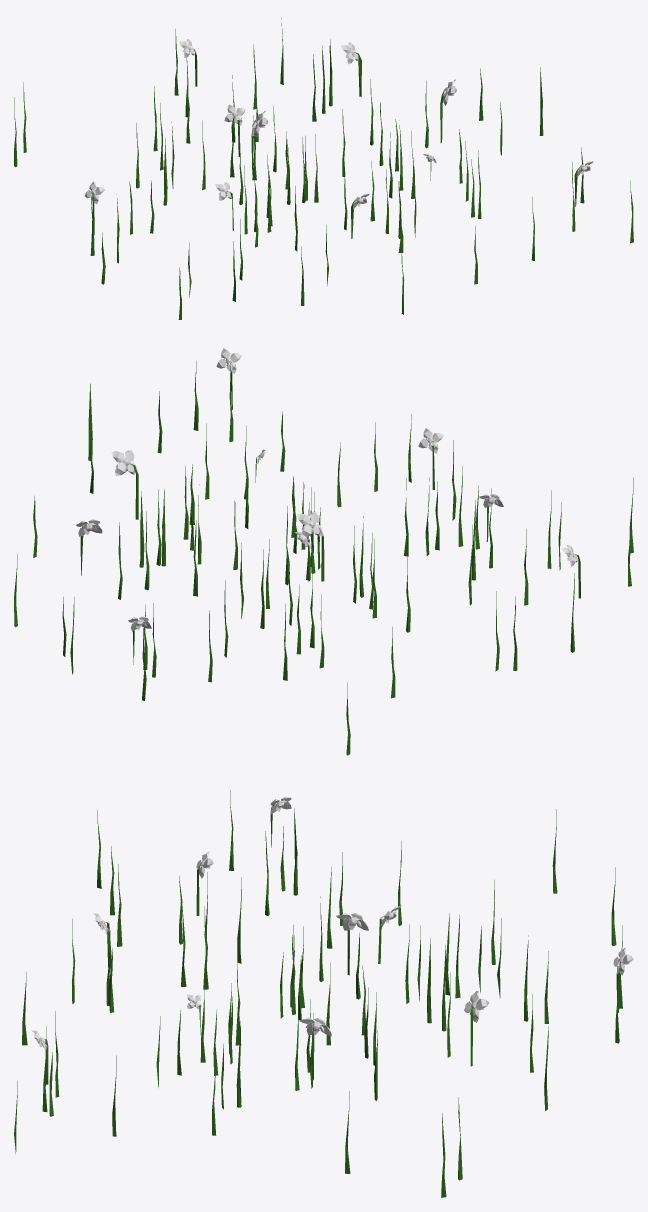
Rendered from fleursVivantes.fbx.
The picture shows the model from 3 angles, top to bottom: view 1: azimuth 30°, elevation 25°; view 2: azimuth 150°, elevation 25°; view 3: azimuth 270°, elevation 25°; orthographic projection. The views are drawn at different scales.
Visible parts, largest first — view 1: Cylinder.001; view 2: Cylinder.001; view 3: Cylinder.001.
Part boxes in pixels (x1=…): Cylinder.001: x1=14, y1=18, x2=633, y2=319; Cylinder.001: x1=14, y1=348, x2=633, y2=755; Cylinder.001: x1=14, y1=790, x2=633, y2=1197.
Bounding box in the file's own units: 179 × 68.62 × 177.
Materials: 1 (1 with a texture image).
